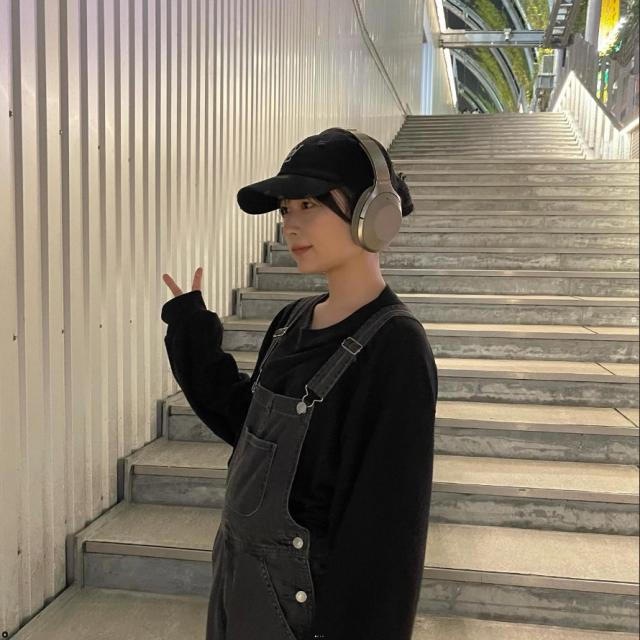illegal_helmet: (233, 123, 416, 277)
